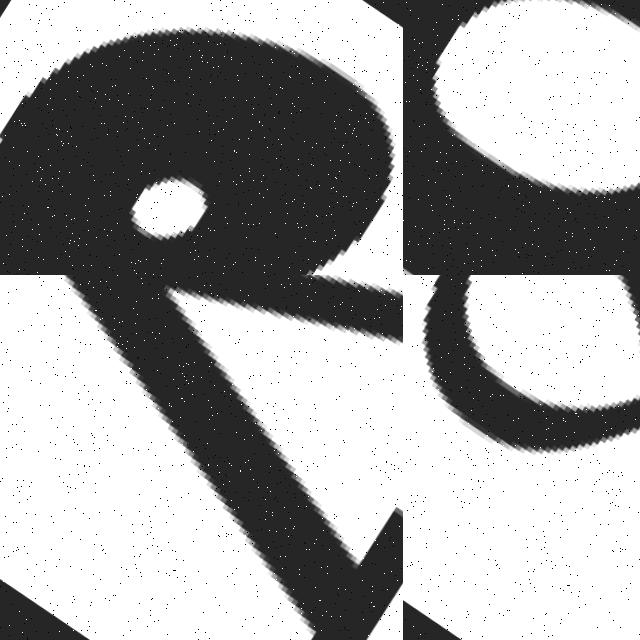8: (403, 275, 640, 640)
B: (0, 18, 396, 275)
V: (0, 275, 403, 640)
